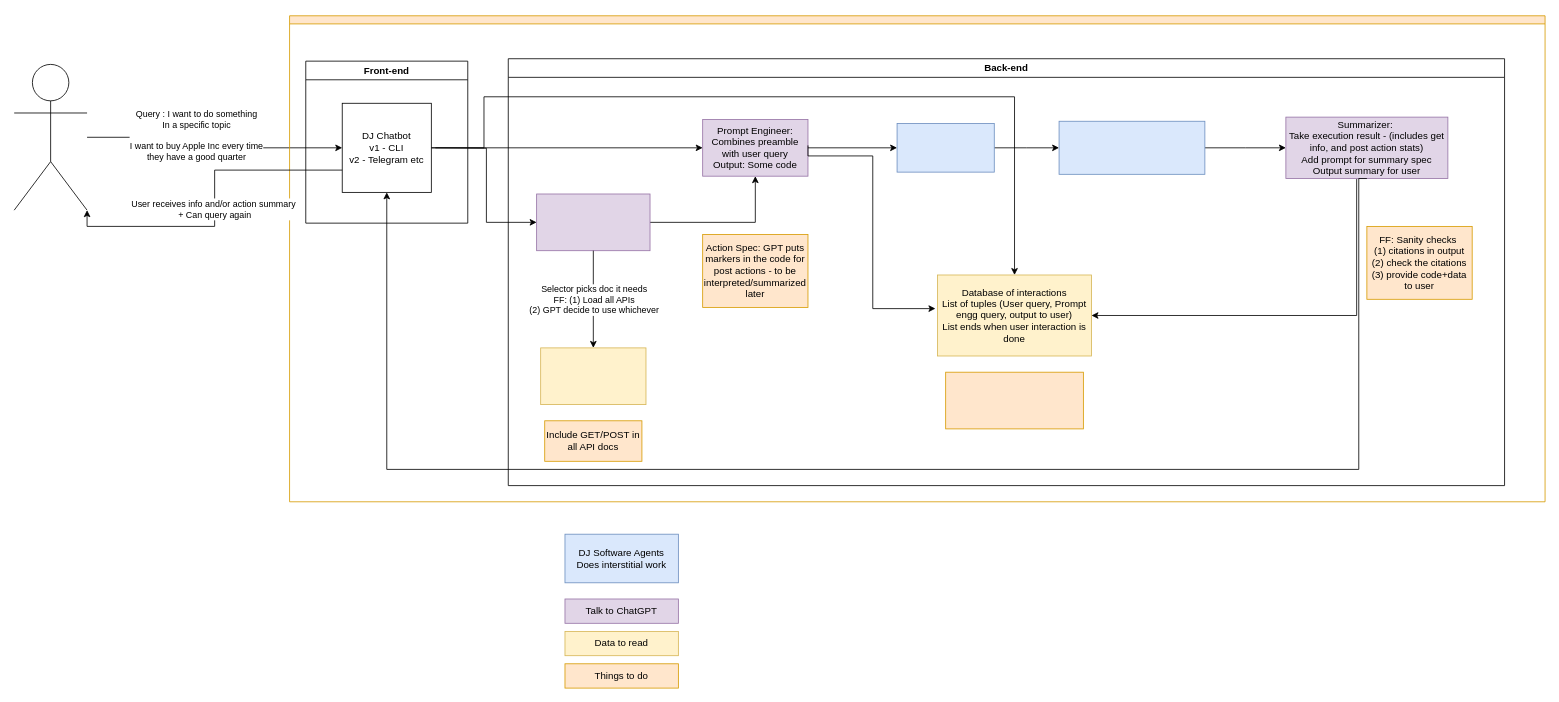
The diagram is 1559 pixels wide and 702 high, and some of its shapes have lost their labels. Here are the shapes that lost their labels. From the top down, the centre of each, then its label:
At pixel 50 137: "User".
At pixel 945 147: "Parser: Parse GPT output Output: Code file".
At pixel 1131 147: "Agent: Runs output code Output: Results of code exec".
At pixel 593 222: "Topic Selector eg: N categories selection by ChatGPT Output: Preamble".
At pixel 917 258: "Cloud server".
At pixel 593 376: "Folder: API documentation in categorized docs + Minimal intro to API".
At pixel 1014 400: "FF: Offline RL training application".
